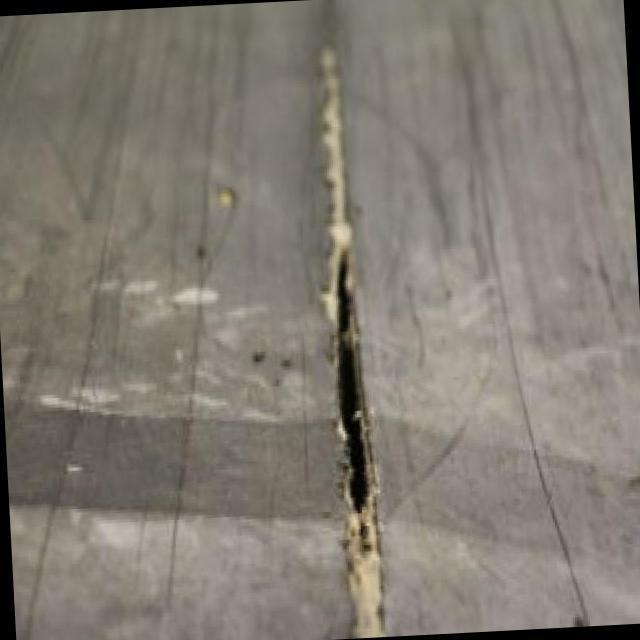Tear: (321, 242, 380, 536)
